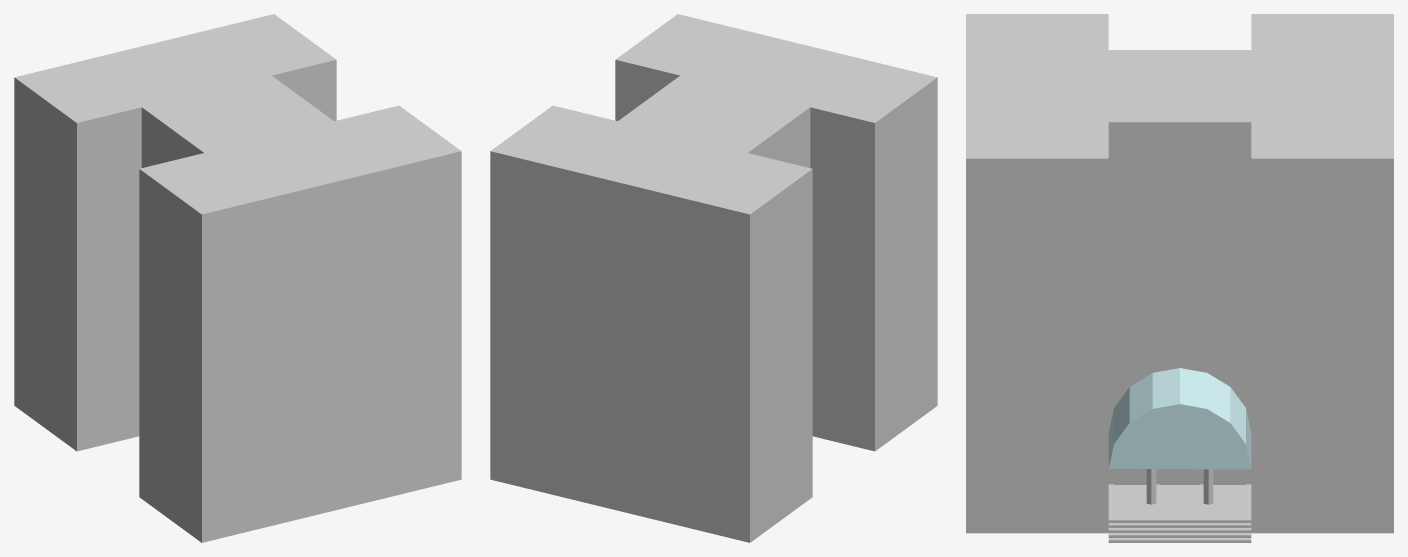
The model's file is Dib.FBX.
3 views of the same model, side by side, from view 1: azimuth 30°, elevation 25°; view 2: azimuth 150°, elevation 25°; view 3: azimuth 270°, elevation 25° (orthographic). The views are drawn at different scales.
Parts seen in each view (by area): view 1: Box001; view 2: Box001; view 3: Box001, Cylinder003, Box002.
Part boxes in pixels (x1,y1,x2,y2): Box001: (14, 14, 461, 542); Box001: (490, 14, 937, 542); Box001: (966, 14, 1393, 533); Cylinder003: (1108, 368, 1251, 469); Box002: (1108, 484, 1251, 542).
Size of the model in its own units: 128 by 145 by 150.
